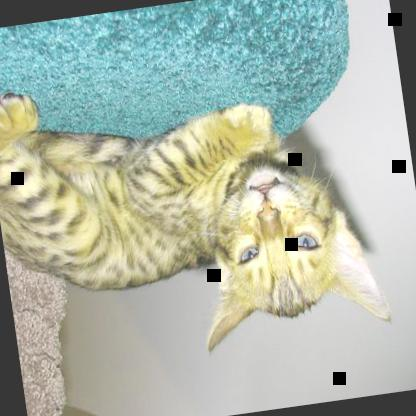cat: (0, 43, 393, 382)
